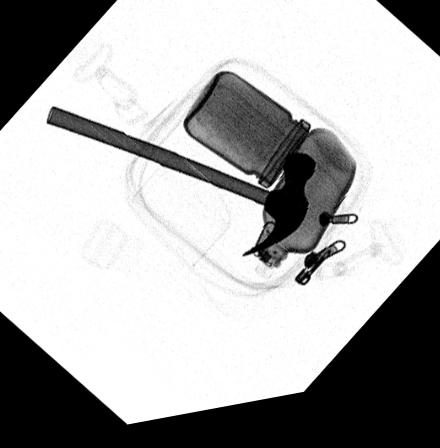Hammer: (46, 105, 317, 266)
